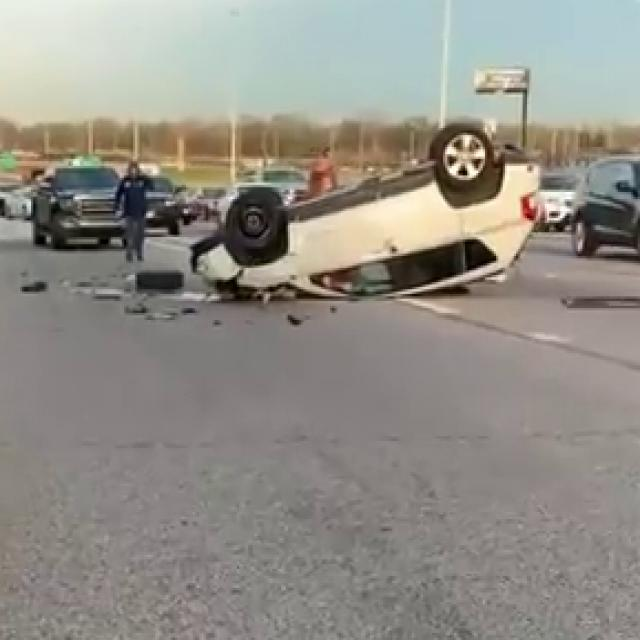accident: (173, 120, 550, 323)
